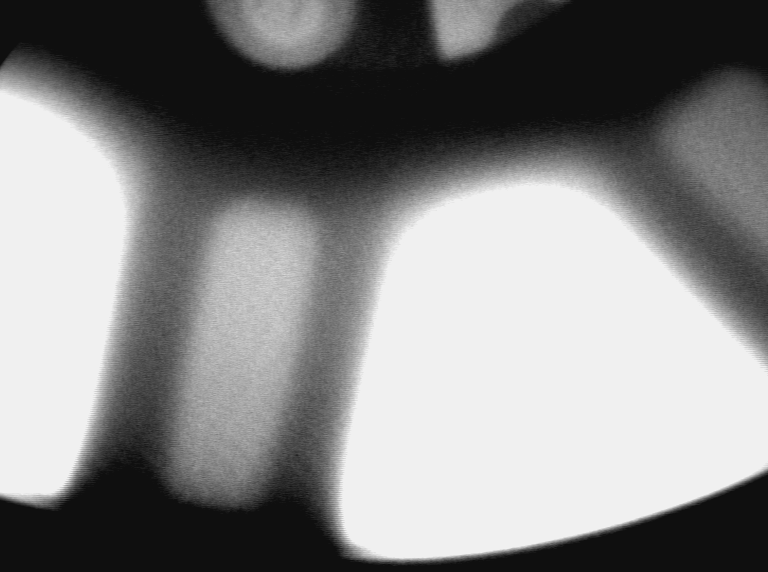defect: (184, 419, 206, 483)
